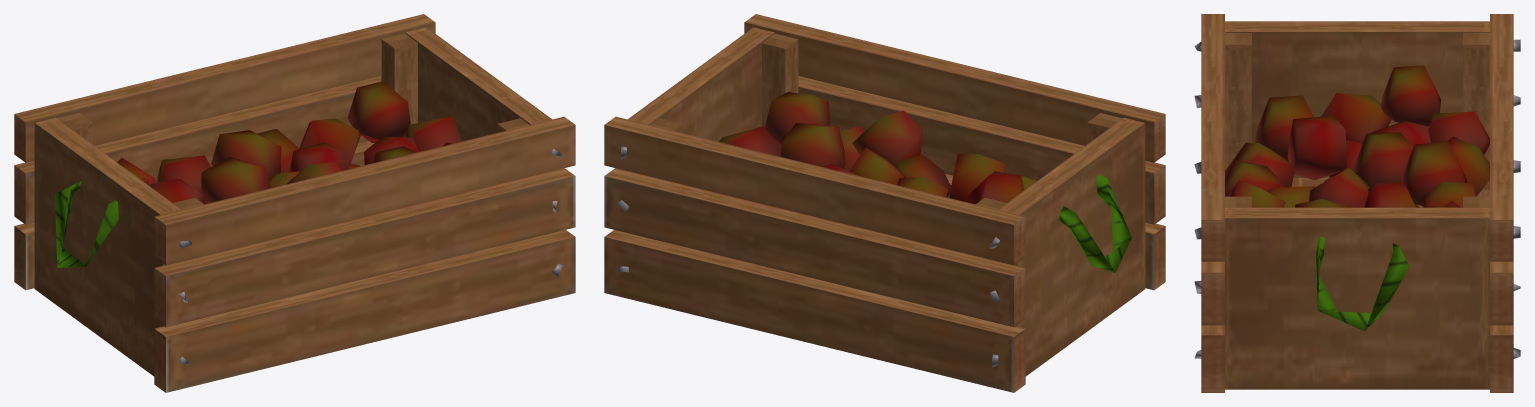
The model's file is FarmCrate_Apple.medium.gltf.
3 renders of one model, left to right at view 1: azimuth 30°, elevation 25°; view 2: azimuth 150°, elevation 25°; view 3: azimuth 270°, elevation 25°, orthographic. The views are drawn at different scales.
Visible parts, largest first — view 1: FarmCrate_Apple; view 2: FarmCrate_Apple; view 3: FarmCrate_Apple.
Boxes of the visible parts, x1,y1,x2,y2 form: FarmCrate_Apple: (14, 14, 575, 392); FarmCrate_Apple: (604, 14, 1165, 392); FarmCrate_Apple: (1194, 14, 1520, 392).
Bounding box in the file's own units: 0.7073 × 0.2438 × 0.4141.
3 materials, 3 textured.
